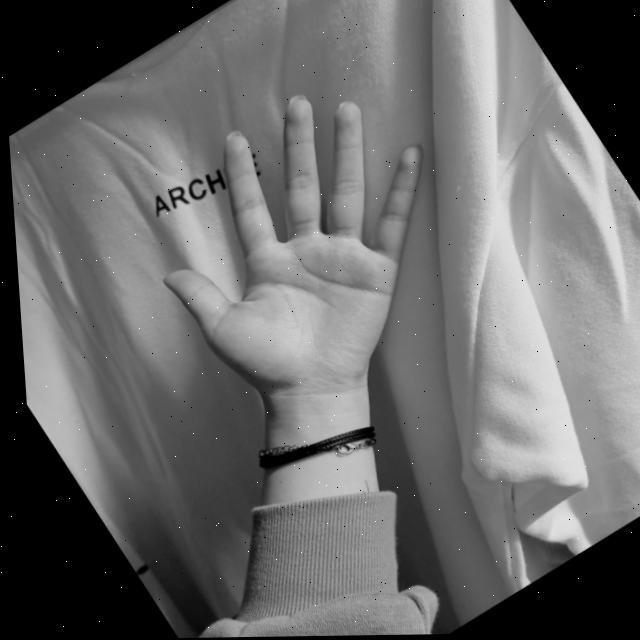no-gloves: (95, 46, 542, 479)
